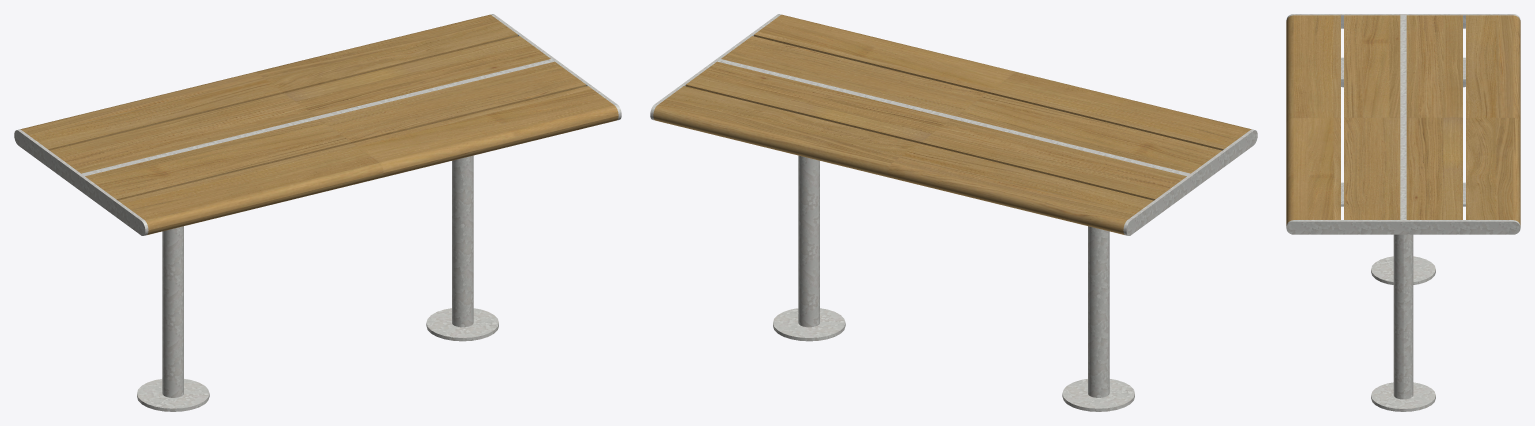
Rendered from vestre-table.dae.
3 views of the same model, side by side, from view 1: azimuth 30°, elevation 25°; view 2: azimuth 150°, elevation 25°; view 3: azimuth 270°, elevation 25° (orthographic). The views are drawn at different scales.
Parts seen in each view (by area): view 1: _Defintion (×9), _Defintion7 (×2), _Defintion8 (×2), _Defintion9 (×2); view 2: _Defintion (×8), _Defintion7 (×2), _Defintion8 (×2), _Defintion9 (×2); view 3: _Defintion (×6), _Defintion9 (×2), _Defintion8 (×3), _Defintion7.
Boxes of the visible parts, x1,y1,x2,y2 form: _Defintion (×9): (20, 14, 618, 234); _Defintion7 (×2): (137, 226, 209, 408); _Defintion8 (×2): (426, 155, 498, 337); _Defintion9 (×2): (14, 14, 617, 235); _Defintion (×8): (653, 14, 1251, 234); _Defintion7 (×2): (1062, 226, 1134, 408); _Defintion8 (×2): (773, 155, 845, 337); _Defintion9 (×2): (654, 14, 1257, 235); _Defintion (×6): (1286, 15, 1520, 225); _Defintion9 (×2): (1286, 14, 1520, 234); _Defintion8 (×3): (1371, 234, 1435, 408); _Defintion7: (1371, 256, 1435, 281).
Size of the model in its own units: 59.61 by 28.43 by 29.13.
Materials: 2 (2 with a texture image).
